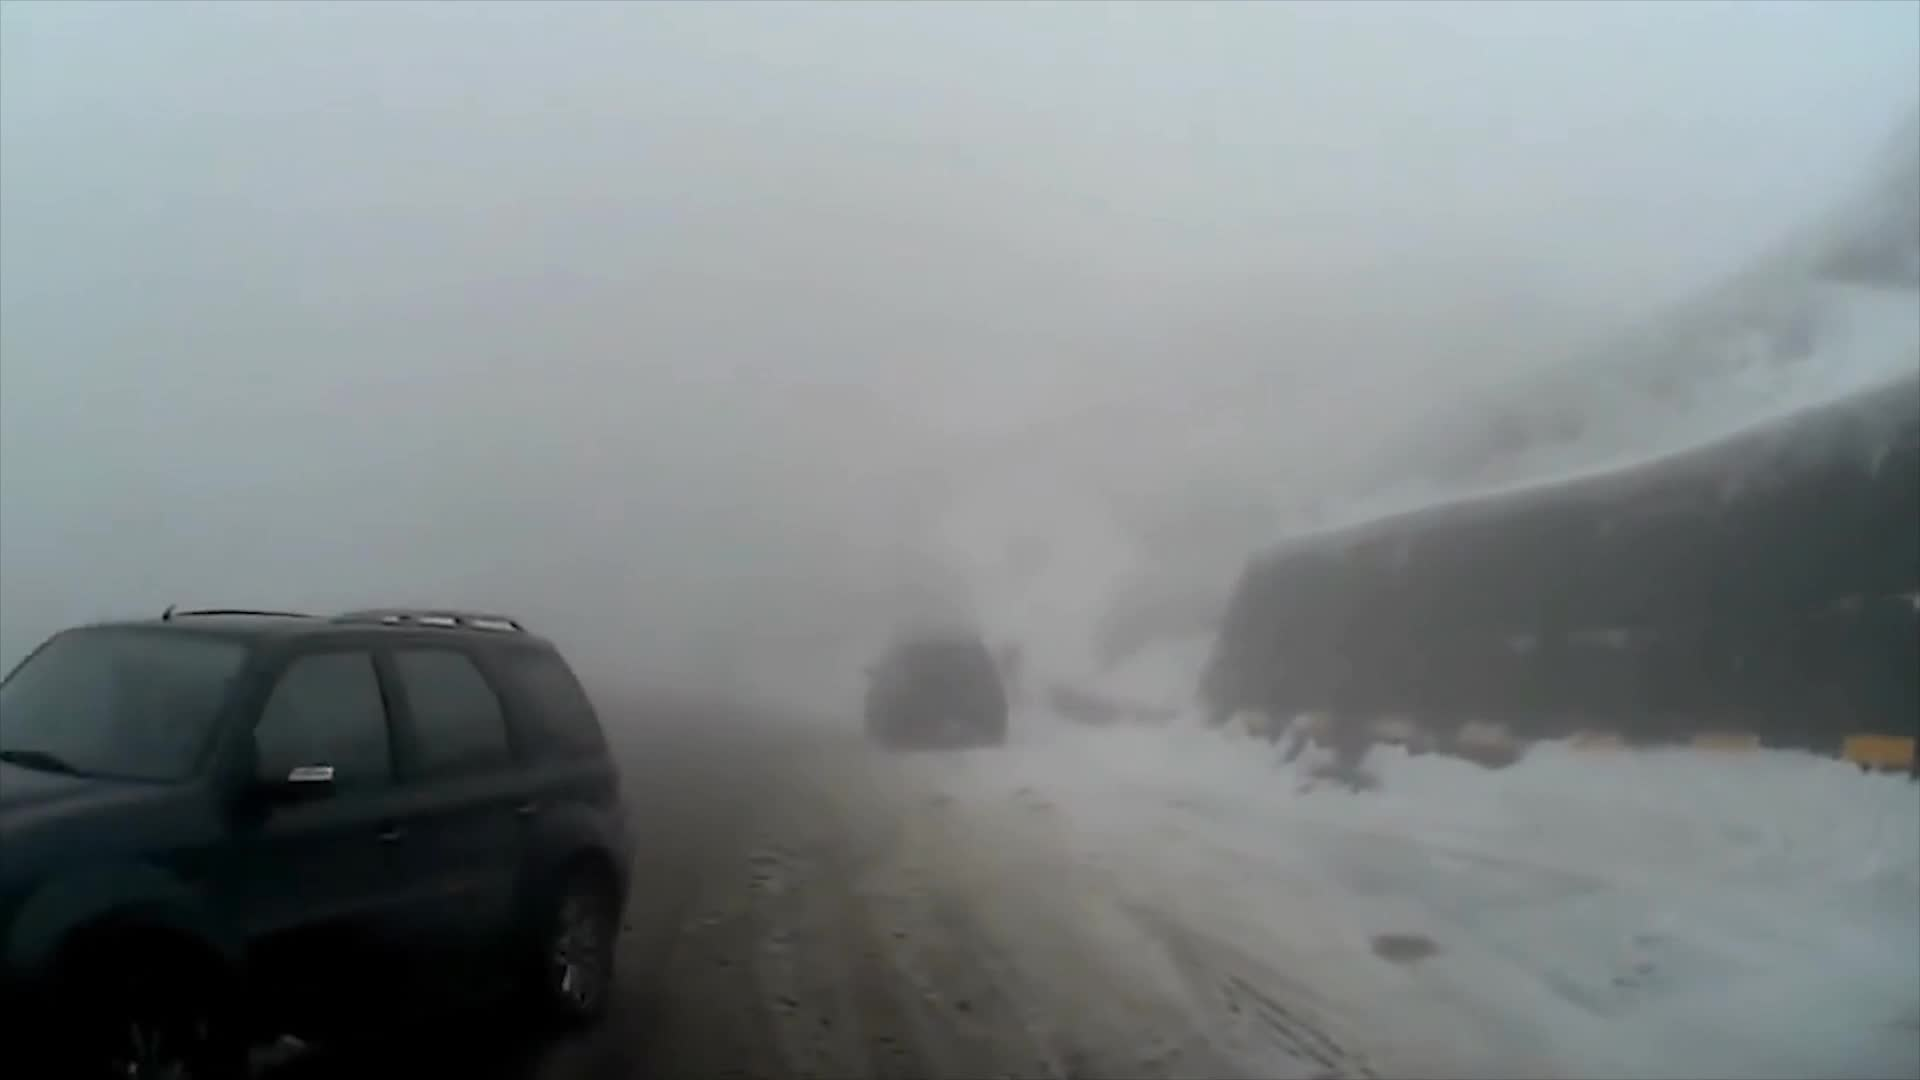vehicle: (0, 600, 636, 1077), (860, 626, 1007, 752)
